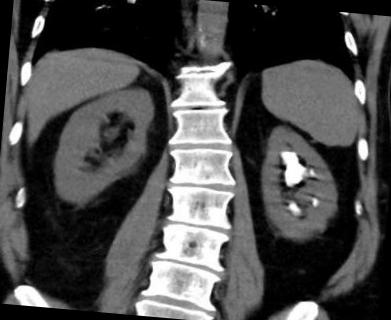Tas_Var: (277, 149, 308, 190), (310, 196, 320, 210), (288, 202, 300, 212), (308, 168, 316, 178)
